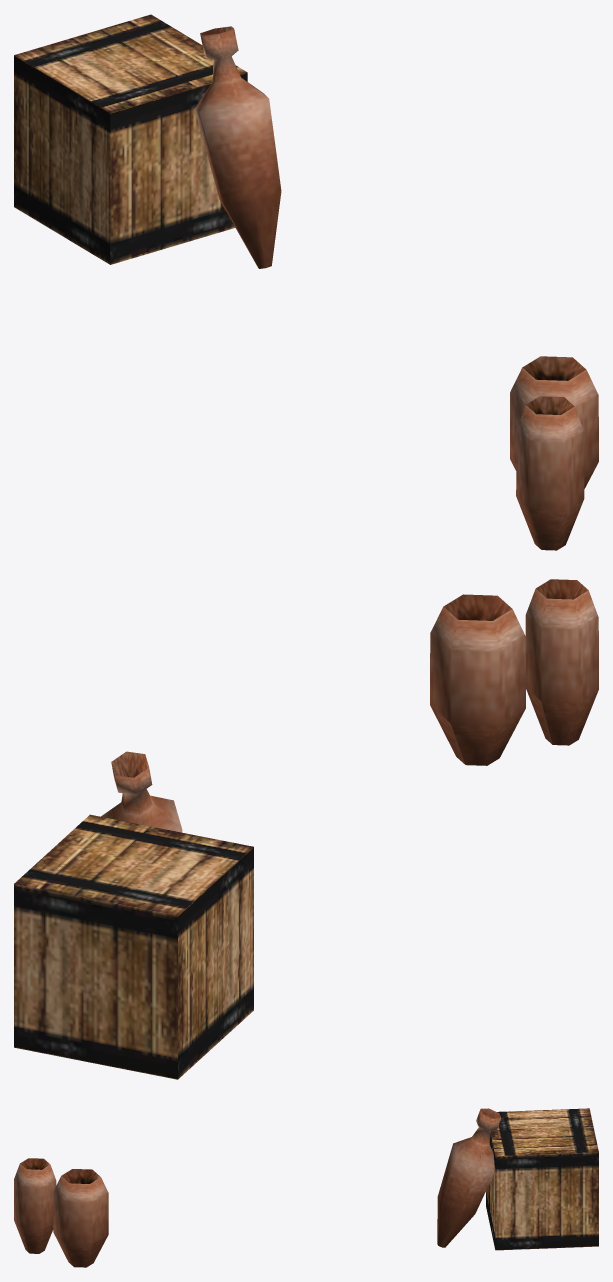
Rendered from rome_tent_a_props.dae.
3 renders of one model, top to bottom at view 1: azimuth 30°, elevation 25°; view 2: azimuth 150°, elevation 25°; view 3: azimuth 270°, elevation 25°, orthographic. The views are drawn at different scales.
Visible parts, largest first — view 1: rome_sb_struct003; view 2: rome_sb_struct003; view 3: rome_sb_struct003.
Part boxes in pixels (x1=…): rome_sb_struct003: x1=14, y1=14, x2=598, y2=550; rome_sb_struct003: x1=14, y1=579, x2=598, y2=1079; rome_sb_struct003: x1=14, y1=1108, x2=598, y2=1267.
Size of the model in its own units: 1.23 by 1.71 by 6.05.
